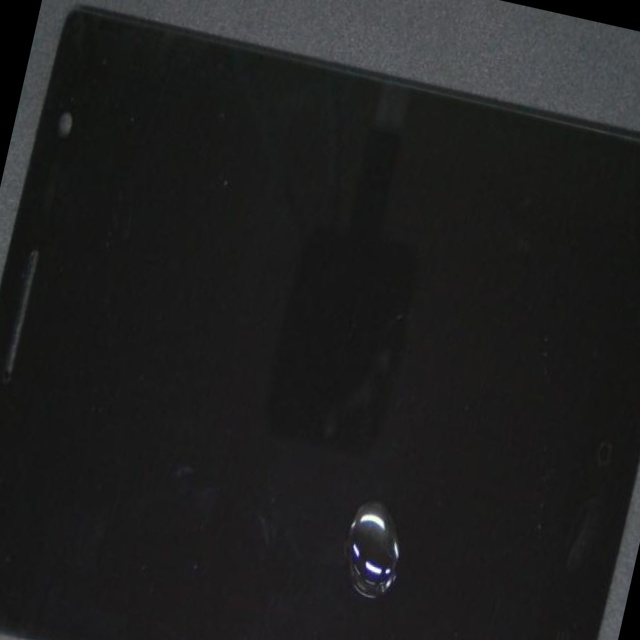oil: (145, 269, 640, 640)
